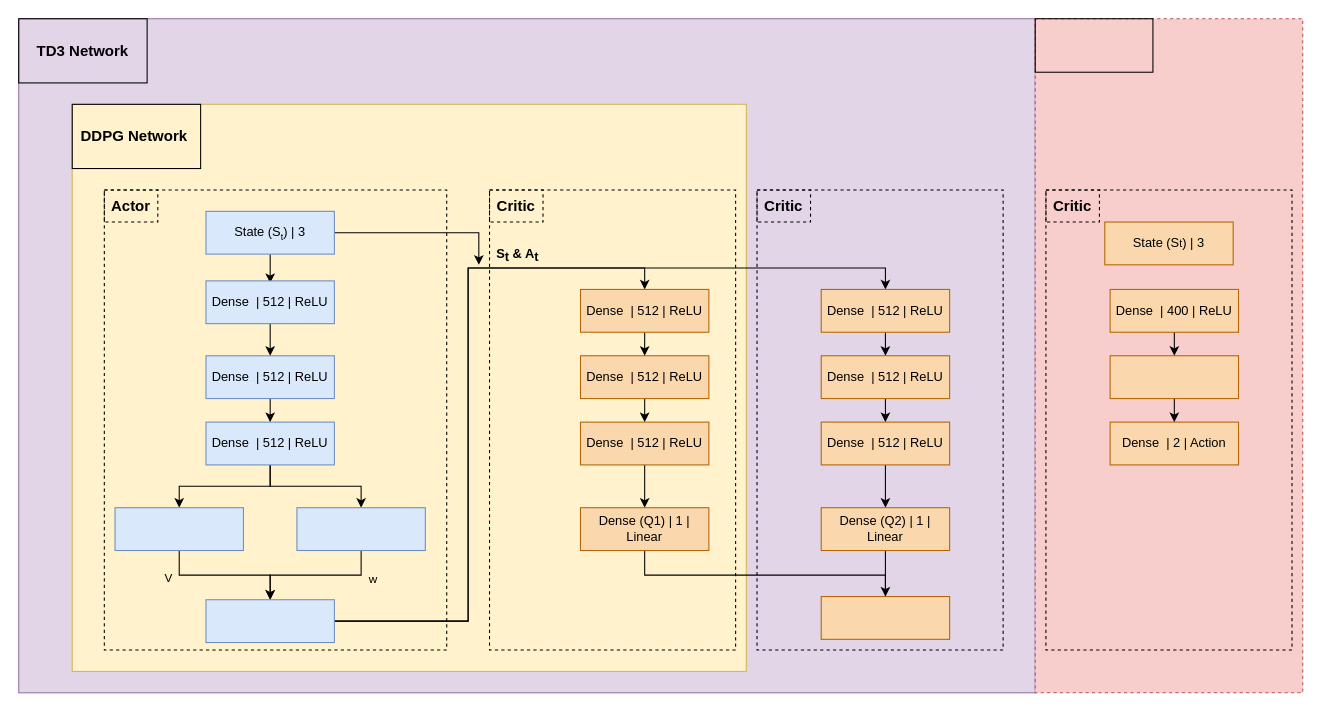
Image size: 1321x712. Some labels were removed from this diagram. Each missing label, with the centre of its shape:
Dense | 1 | Sigmoid: [178,529]
Dense | 1 | Tanh: [360,529]
Dense | 300 | ReLU: [1174,377]
DQN Network: [1093,45]
Merge | 2: [269,621]
Min (Q1,Q2): [885,617]
